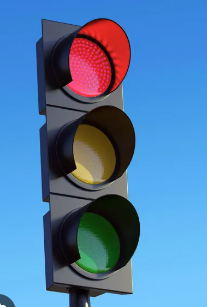red: (37, 18, 178, 307)
